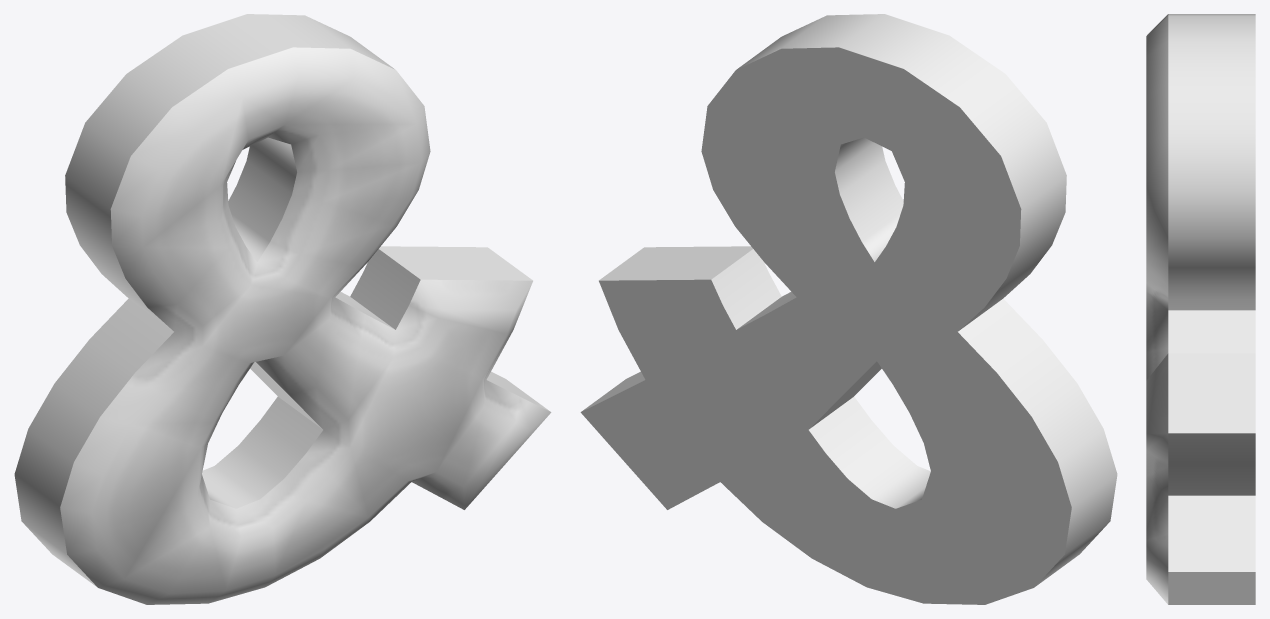
The model's file is LettersStylized01_S3.FBX.
3 views of the same model, side by side, from view 1: azimuth 30°, elevation 25°; view 2: azimuth 150°, elevation 25°; view 3: azimuth 270°, elevation 25° (orthographic). The views are drawn at different scales.
Visible parts, largest first — view 1: LettersStylized01_S3; view 2: LettersStylized01_S3; view 3: LettersStylized01_S3.
Boxes of the visible parts, x1,y1,x2,y2 form: LettersStylized01_S3: [14, 14, 551, 604]; LettersStylized01_S3: [580, 14, 1117, 604]; LettersStylized01_S3: [1146, 14, 1255, 604].
Size of what is drawn, in the model's own units: 0.4227 by 0.4402 by 0.085.
